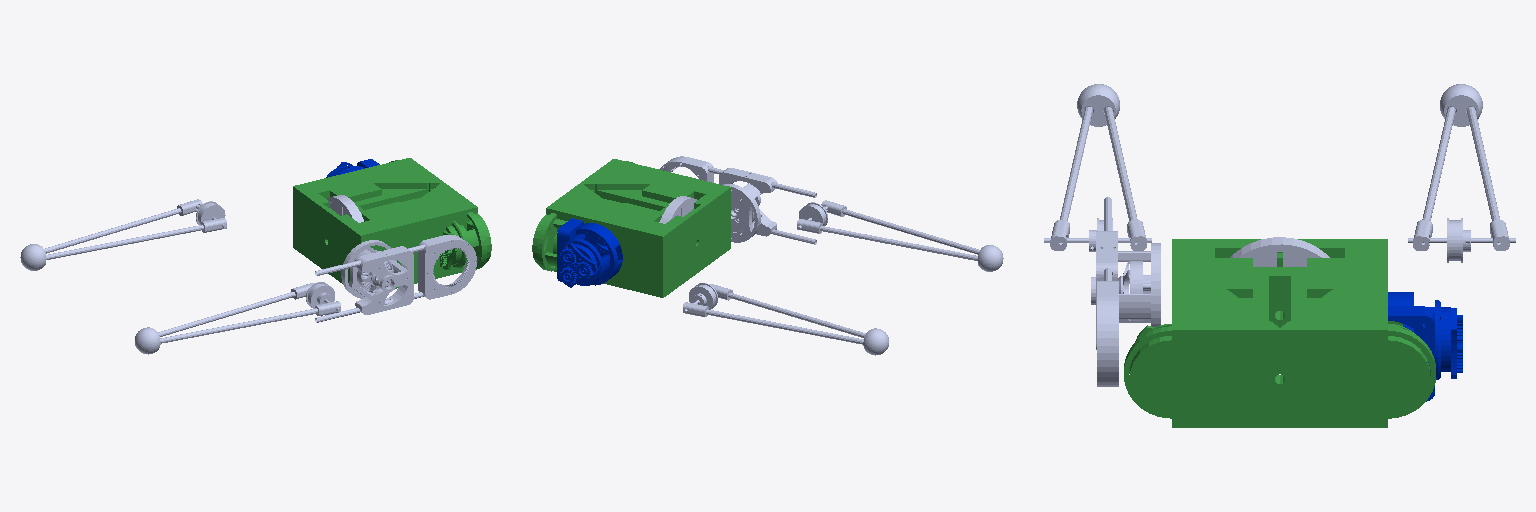
robot.urdf — Biped_Longfoot:
<?xml version="1.0" encoding="utf-8"?>
<!-- This URDF was automatically created by SolidWorks to URDF Exporter! Originally created by [author] ([email redacted]) 
     Commit Version: 1.6.0-4-g7f85cfe  Build Version: 1.6.7995.38578
     For more information, please see http://wiki.ros.org/sw_urdf_exporter -->
<robot
  name="Biped_Longfoot">
  <link
    name="Body">
    <inertial>
      <origin
        xyz="0.00875 -0.00011577 0.049281"
        rpy="0 0 0" />
      <mass
        value="0.5" />
      <inertia
        ixx="0.016664"
        ixy="-2.5808E-16"
        ixz="-2.5495E-05"
        iyy="0.01491"
        iyz="3.7322E-12"
        izz="0.025732" />
    </inertial>
    <visual>
      <origin
        xyz="0 0 0"
        rpy="0 0 0" />
      <geometry>
        <mesh
          filename="../meshes/Body.STL" />
      </geometry>
      <material
        name="">
        <color
          rgba="0.28627 0.66275 0.32941 1" />
      </material>
    </visual>
    <collision>
      <origin
        xyz="0 0 0"
        rpy="0 0 0" />
      <geometry>
        <mesh
          filename="../meshes/Body.STL" />
      </geometry>
    </collision>
  </link>
  <link
    name="L_Hip">
    <inertial>
      <origin
        xyz="-0.011702 0.019238 -1.7814E-08"
        rpy="0 0 0" />
      <mass
        value="0.24499" />
      <inertia
        ixx="0.00022957"
        ixy="-3.2972E-12"
        ixz="-2.2508E-10"
        iyy="0.00023971"
        iyz="-5.4613E-12"
        izz="0.00016193" />
    </inertial>
    <visual>
      <origin
        xyz="0 0 0"
        rpy="0 0 0" />
      <geometry>
        <mesh
          filename="../meshes/L_Hip.STL" />
      </geometry>
      <material
        name="">
        <color
          rgba="0.0078431 0.23922 0.82353 1" />
      </material>
    </visual>
    <collision>
      <origin
        xyz="0 0 0"
        rpy="0 0 0" />
      <geometry>
        <mesh
          filename="../meshes/L_Hip.STL" />
      </geometry>
    </collision>
  </link>
  <joint
    name="L_J1"
    type="revolute">
    <origin
      xyz="0.034433 0.1 0.05"
      rpy="0 0 0" />
    <parent
      link="Body" />
    <child
      link="L_Hip" />
    <axis
      xyz="1 0 0" />
    <limit
      lower="-0.35"
      upper="0.35"
      effort="2"
      velocity="0" />
  </joint>
  <link
    name="L_Thigh">
    <inertial>
      <origin
        xyz="-0.081737 -0.023332 1.0839E-06"
        rpy="0 0 0" />
      <mass
        value="0.21389" />
      <inertia
        ixx="0.00015693"
        ixy="-2.9003E-06"
        ixz="2.0598E-08"
        iyy="0.00028797"
        iyz="4.3352E-10"
        izz="0.00016039" />
    </inertial>
    <visual>
      <origin
        xyz="0 0 0"
        rpy="0 0 0" />
      <geometry>
        <mesh
          filename="../meshes/L_Thigh.STL" />
      </geometry>
      <material
        name="">
        <color
          rgba="0.0078431 0.23922 0.82353 1" />
      </material>
    </visual>
    <collision>
      <origin
        xyz="0 0 0"
        rpy="0 0 0" />
      <geometry>
        <mesh
          filename="../meshes/L_Thigh.STL" />
      </geometry>
    </collision>
  </link>
  <joint
    name="L_J2"
    type="revolute">
    <origin
      xyz="-0.02045 0.07 0"
      rpy="0 0 0" />
    <parent
      link="L_Hip" />
    <child
      link="L_Thigh" />
    <axis
      xyz="0 -1 0" />
    <limit
      lower="-2.8"
      upper="2.8"
      effort="2"
      velocity="0" />
  </joint>
  <link
    name="L_Shin">
    <inertial>
      <origin
        xyz="-0.14161 -0.0031964 -1.1056E-05"
        rpy="0 0 0" />
      <mass
        value="0.06737" />
      <inertia
        ixx="9.9237E-06"
        ixy="3.9964E-09"
        ixz="1.3799E-11"
        iyy="6.1692E-05"
        iyz="8.0018E-09"
        izz="6.2515E-05" />
    </inertial>
    <visual>
      <origin
        xyz="0 0 0"
        rpy="0 0 0" />
      <geometry>
        <mesh
          filename="../meshes/L_Shin.STL" />
      </geometry>
      <material
        name="">
        <color
          rgba="0.79216 0.81961 0.93333 1" />
      </material>
    </visual>
    <collision>
      <origin
        xyz="0 0 0"
        rpy="0 0 0" />
      <geometry>
        <mesh
          filename="../meshes/L_Shin.STL" />
      </geometry>
    </collision>
  </link>
  <joint
    name="L_J3"
    type="revolute">
    <origin
      xyz="-0.218 0 0"
      rpy="0 0 0" />
    <parent
      link="L_Thigh" />
    <child
      link="L_Shin" />
    <axis
      xyz="0 1 0" />
    <limit
      lower="-2.8"
      upper="2.8"
      effort="2"
      velocity="0" />
  </joint>
  <link
    name="R_Hip">
    <inertial>
      <origin
        xyz="-0.0117020911662147 -0.0192378662036612 1.78144100304589E-08"
        rpy="0 0 0" />
      <mass
        value="0.244991783639187" />
      <inertia
        ixx="0.000229565612565136"
        ixy="3.29715841194678E-12"
        ixz="2.2508006806926E-10"
        iyy="0.000239714320228986"
        iyz="-5.46133417321109E-12"
        izz="0.000161925907771084" />
    </inertial>
    <visual>
      <origin
        xyz="0 0 0"
        rpy="0 0 0" />
      <geometry>
        <mesh
          filename="../meshes/R_Hip.STL" />
      </geometry>
      <material
        name="">
        <color
          rgba="0.00784313725490196 0.23921568627451 0.823529411764706 1" />
      </material>
    </visual>
    <collision>
      <origin
        xyz="0 0 0"
        rpy="0 0 0" />
      <geometry>
        <mesh
          filename="../meshes/R_Hip.STL" />
      </geometry>
    </collision>
  </link>
  <joint
    name="R_J1"
    type="revolute">
    <origin
      xyz="0.034433 -0.1 0.05"
      rpy="0 0 0" />
    <parent
      link="Body" />
    <child
      link="R_Hip" />
    <axis
      xyz="1 0 0" />
    <limit
      lower="-0.35"
      upper="0.35"
      effort="2"
      velocity="0" />
  </joint>
  <link
    name="R_Thigh">
    <inertial>
      <origin
        xyz="-0.0817374624571683 0.0233317564196753 -1.083925488643E-06"
        rpy="0 0 0" />
      <mass
        value="0.213887019230149" />
      <inertia
        ixx="0.000156929203122604"
        ixy="2.90025887800606E-06"
        ixz="-2.05980738831229E-08"
        iyy="0.00028797163198921"
        iyz="4.33522037891126E-10"
        izz="0.000160390422080857" />
    </inertial>
    <visual>
      <origin
        xyz="0 0 0"
        rpy="0 0 0" />
      <geometry>
        <mesh
          filename="../meshes/R_Thigh.STL" />
      </geometry>
      <material
        name="">
        <color
          rgba="0.792156862745098 0.819607843137255 0.933333333333333 1" />
      </material>
    </visual>
    <collision>
      <origin
        xyz="0 0 0"
        rpy="0 0 0" />
      <geometry>
        <mesh
          filename="../meshes/R_Thigh.STL" />
      </geometry>
    </collision>
  </link>
  <joint
    name="R_J2"
    type="revolute">
    <origin
      xyz="-0.02045 -0.07 0"
      rpy="0 0 0" />
    <parent
      link="R_Hip" />
    <child
      link="R_Thigh" />
    <axis
      xyz="0 1 0" />
    <limit
      lower="-2.8"
      upper="2.8"
      effort="2"
      velocity="0" />
  </joint>
  <link
    name="R_Shin">
    <inertial>
      <origin
        xyz="-0.14161383520369 0.00319643914352419 1.1056228479342E-05"
        rpy="0 0 0" />
      <mass
        value="0.0673695809293491" />
      <inertia
        ixx="9.92372270760311E-06"
        ixy="-3.99640905795578E-09"
        ixz="-1.37986739148306E-11"
        iyy="6.1691663047134E-05"
        iyz="8.0017977631751E-09"
        izz="6.2514882356553E-05" />
    </inertial>
    <visual>
      <origin
        xyz="0 0 0"
        rpy="0 0 0" />
      <geometry>
        <mesh
          filename="../meshes/R_Shin.STL" />
      </geometry>
      <material
        name="">
        <color
          rgba="0.792156862745098 0.819607843137255 0.933333333333333 1" />
      </material>
    </visual>
    <collision>
      <origin
        xyz="0 0 0"
        rpy="0 0 0" />
      <geometry>
        <mesh
          filename="../meshes/R_Shin.STL" />
      </geometry>
    </collision>
  </link>
  <joint
    name="R_J3"
    type="revolute">
    <origin
      xyz="-0.218 0 0"
      rpy="0 0 0" />
    <parent
      link="R_Thigh" />
    <child
      link="R_Shin" />
    <axis
      xyz="0 -1 0" />
    <limit
      lower="-2.8"
      upper="2.8"
      effort="2"
      velocity="0" />
  </joint>
  <link
    name="ReactWheelX">
    <inertial>
      <origin
        xyz="0 2.7756E-17 0"
        rpy="0 0 0" />
      <mass
        value="0.097845" />
      <inertia
        ixx="0.00023479"
        ixy="-3.099E-21"
        ixz="5.7417E-23"
        iyy="0.0001185"
        iyz="1.8513E-20"
        izz="0.0001185" />
    </inertial>
    <visual>
      <origin
        xyz="0 0 0"
        rpy="0 0 0" />
      <geometry>
        <mesh
          filename="../meshes/ReactWheelX.STL" />
      </geometry>
      <material
        name="">
        <color
          rgba="0.79216 0.81961 0.93333 1" />
      </material>
    </visual>
    <collision>
      <origin
        xyz="0 0 0"
        rpy="0 0 0" />
      <geometry>
        <mesh
          filename="../meshes/ReactWheelX.STL" />
      </geometry>
    </collision>
  </link>
  <joint
    name="WheelX"
    type="continuous">
    <origin
      xyz="-0.07 0 0.05"
      rpy="0 0 0" />
    <parent
      link="Body" />
    <child
      link="ReactWheelX" />
    <axis
      xyz="1 0 0" />
  </joint>
  <link
    name="ReactWheelY">
    <inertial>
      <origin
        xyz="0 2.7756E-17 0"
        rpy="0 0 0" />
      <mass
        value="0.097845" />
      <inertia
        ixx="0.0001185"
        ixy="-4.9506E-21"
        ixz="-3.4276E-20"
        iyy="0.00023479"
        iyz="1.5587E-21"
        izz="0.0001185" />
    </inertial>
    <visual>
      <origin
        xyz="0 0 0"
        rpy="0 0 0" />
      <geometry>
        <mesh
          filename="../meshes/ReactWheelY.STL" />
      </geometry>
      <material
        name="">
        <color
          rgba="0.79216 0.81961 0.93333 1" />
      </material>
    </visual>
    <collision>
      <origin
        xyz="0 0 0"
        rpy="0 0 0" />
      <geometry>
        <mesh
          filename="../meshes/ReactWheelY.STL" />
      </geometry>
    </collision>
  </link>
  <joint
    name="WheelY"
    type="continuous">
    <origin
      xyz="0.020147 0 0.05"
      rpy="0 0 0" />
    <parent
      link="Body" />
    <child
      link="ReactWheelY" />
    <axis
      xyz="0 1 0" />
  </joint>
</robot>

--- Facts derived from the render (not from the file) ---
Views: 3 orthographic renders of the robot side by side, from view 1: azimuth 30°, elevation 25°; view 2: azimuth 150°, elevation 25°; view 3: azimuth 270°, elevation 25°.
Model Biped_Longfoot with 9 links and 8 joints (6 revolute, 2 continuous), rooted at Body, posed every joint at zero.
Visible links, largest first — view 1: Body, R_Thigh, R_Shin, L_Shin, ReactWheelX; view 2: Body, R_Thigh, L_Hip, L_Shin, R_Shin, ReactWheelX; view 3: Body, R_Thigh, L_Shin, R_Shin, L_Hip, ReactWheelX.
Boxes of the visible links, <box> form: Body: <box>293,158,491,288</box>; R_Thigh: <box>315,235,476,322</box>; R_Shin: <box>135,282,340,354</box>; L_Shin: <box>20,199,226,270</box>; ReactWheelX: <box>327,195,363,222</box>; Body: <box>532,159,730,297</box>; R_Thigh: <box>659,156,816,244</box>; L_Hip: <box>557,218,622,287</box>; L_Shin: <box>683,283,888,355</box>; R_Shin: <box>797,200,1003,271</box>; ReactWheelX: <box>659,196,696,223</box>; Body: <box>1124,239,1435,427</box>; R_Thigh: <box>1091,197,1160,386</box>; L_Shin: <box>1408,84,1515,262</box>; R_Shin: <box>1044,84,1151,251</box>; L_Hip: <box>1388,292,1462,401</box>; ReactWheelX: <box>1230,237,1329,266</box>.
Bounding box of the posed robot: 0.6211 × 0.437 × 0.1249 m (x, y, z).
Meshes: 9 distinct files referenced, 6 mesh visuals loaded (6 binary STL); not drawn: 3 (reference not matched to a file when rendering).
